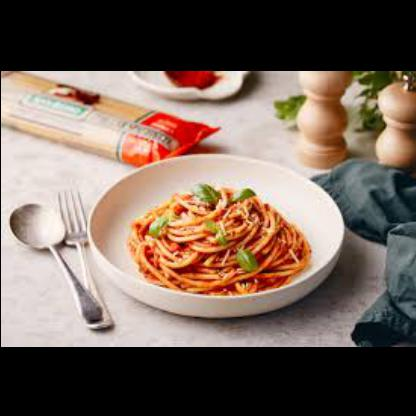spaghetti: (126, 180, 310, 294)
